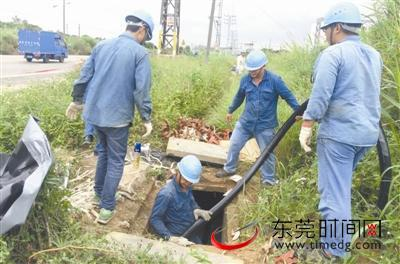helmet: (316, 4, 373, 48), (122, 9, 158, 47), (176, 153, 205, 190), (243, 47, 270, 80)
